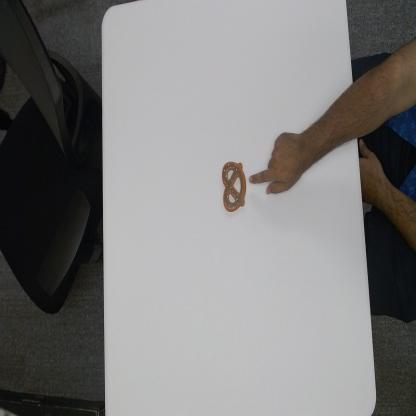Arm: (304, 70, 356, 176)
Hand: (249, 126, 304, 197)
Pretzel: (222, 158, 246, 216)
